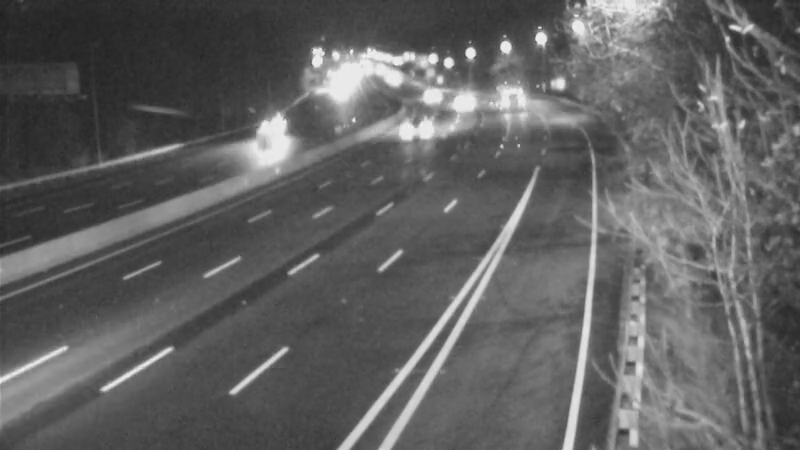vehicle: (369, 55, 419, 105), (481, 73, 531, 123), (404, 73, 454, 123), (436, 78, 486, 128), (388, 107, 438, 157), (249, 103, 299, 153), (313, 64, 363, 114)
